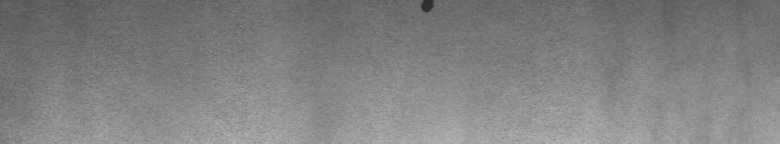fi: (412, 4, 440, 20)
